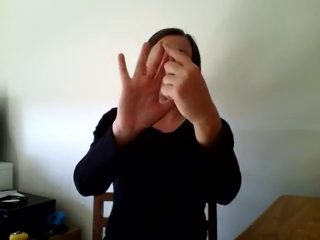I: (104, 32, 227, 148)
